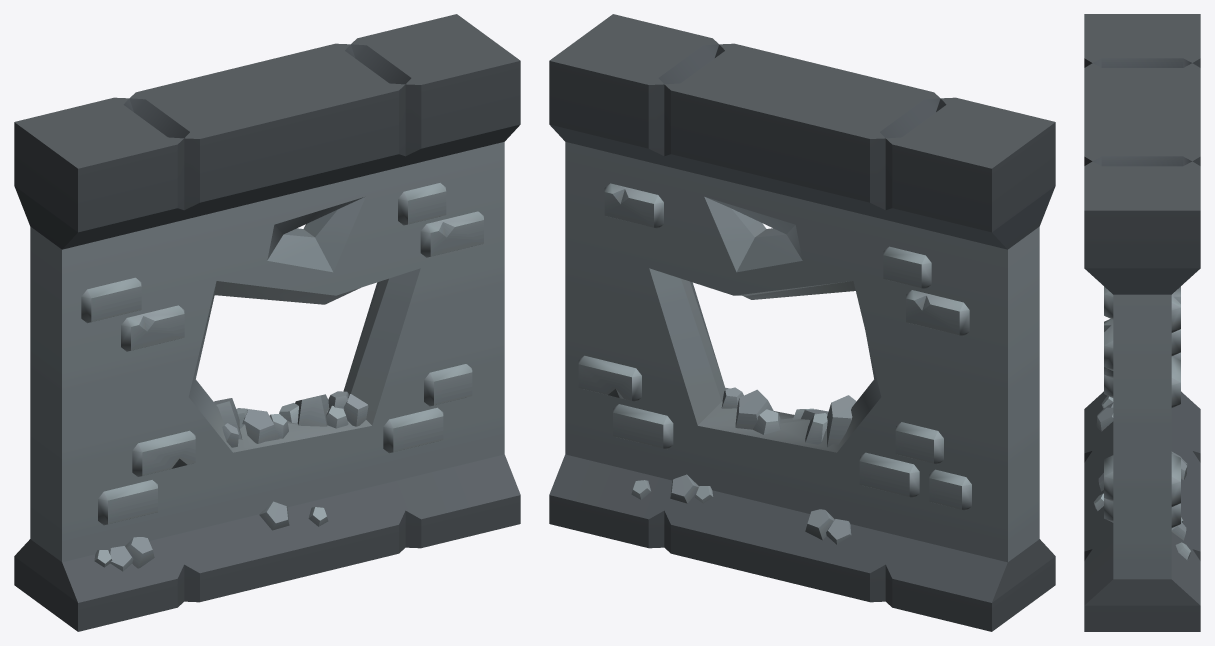
Rendered from wall_broken.glb.
The picture shows the model from 3 angles, left to right: view 1: azimuth 30°, elevation 25°; view 2: azimuth 150°, elevation 25°; view 3: azimuth 270°, elevation 25°; orthographic projection. The views are drawn at different scales.
Visible parts, largest first — view 1: wall_broken; view 2: wall_broken; view 3: wall_broken.
Part boxes in pixels (box(x1,y1,x2,y2)): wall_broken: box(14, 14, 520, 631); wall_broken: box(549, 14, 1055, 631); wall_broken: box(1084, 14, 1200, 631).
Bounding box in the file's own units: 4 × 4 × 1.
Materials: 1 (1 with a texture image).
